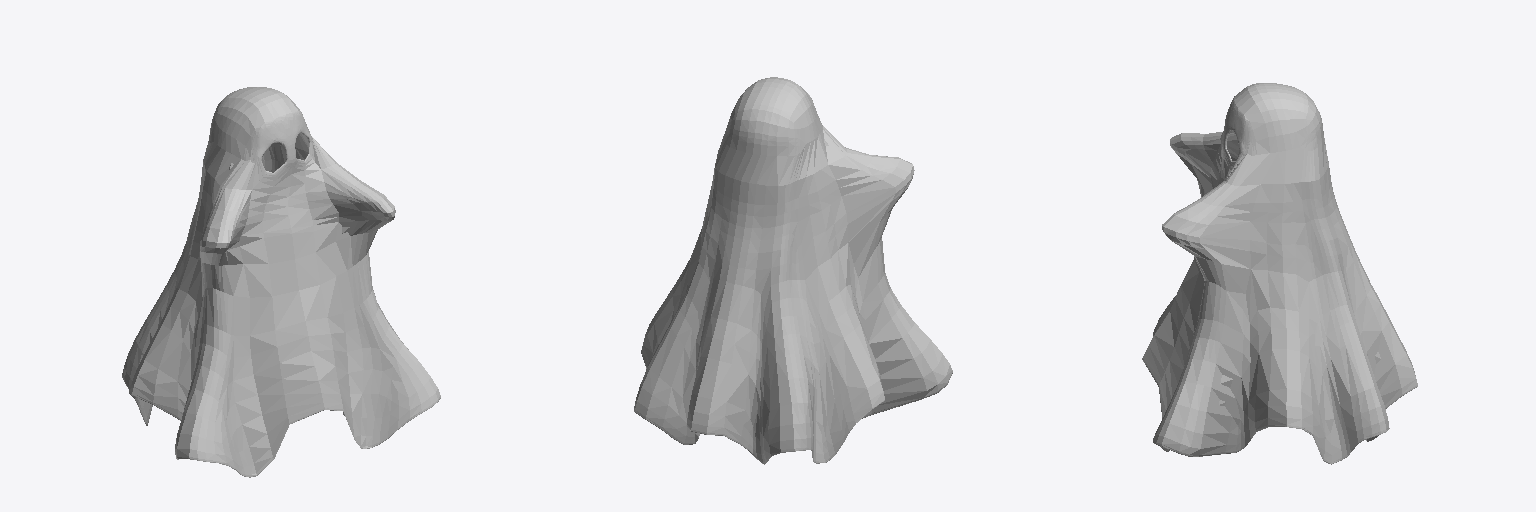
3 views of the same model, side by side, from view 1: azimuth 30°, elevation 25°; view 2: azimuth 150°, elevation 25°; view 3: azimuth 270°, elevation 25° (orthographic).
Visible parts, largest first — view 1: youlinguu2:Group3 walk1; view 2: youlinguu2:Group3 walk1; view 3: youlinguu2:Group3 walk1.
Boxes of the visible parts, <box> form: youlinguu2:Group3 walk1: <box>122,87,440,477</box>; youlinguu2:Group3 walk1: <box>634,77,952,464</box>; youlinguu2:Group3 walk1: <box>1142,83,1417,464</box>.
Size of the model in its own units: 31.97 by 39.79 by 29.57.